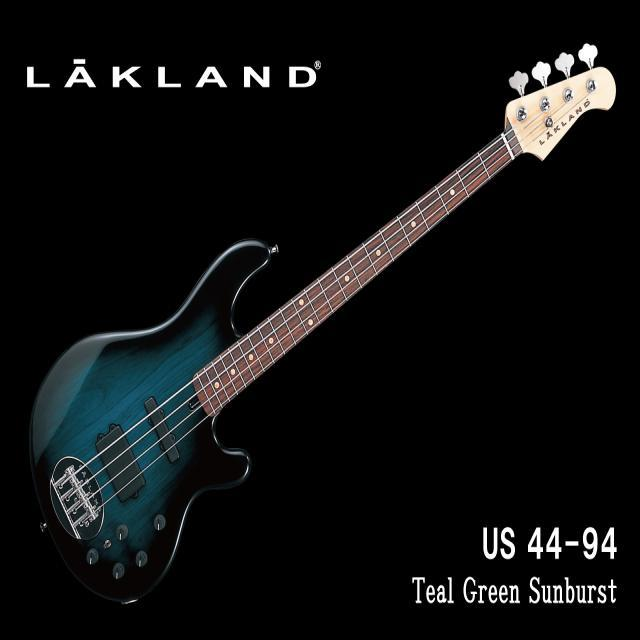bass: (31, 45, 614, 601)
